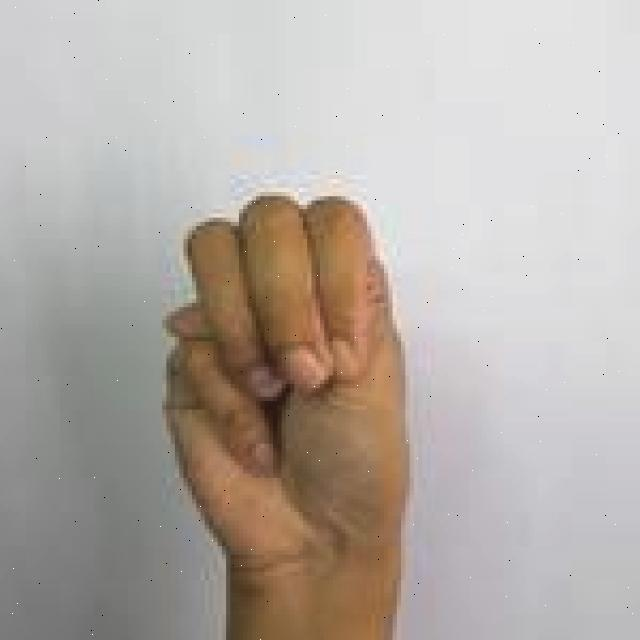M: (158, 192, 426, 640)
